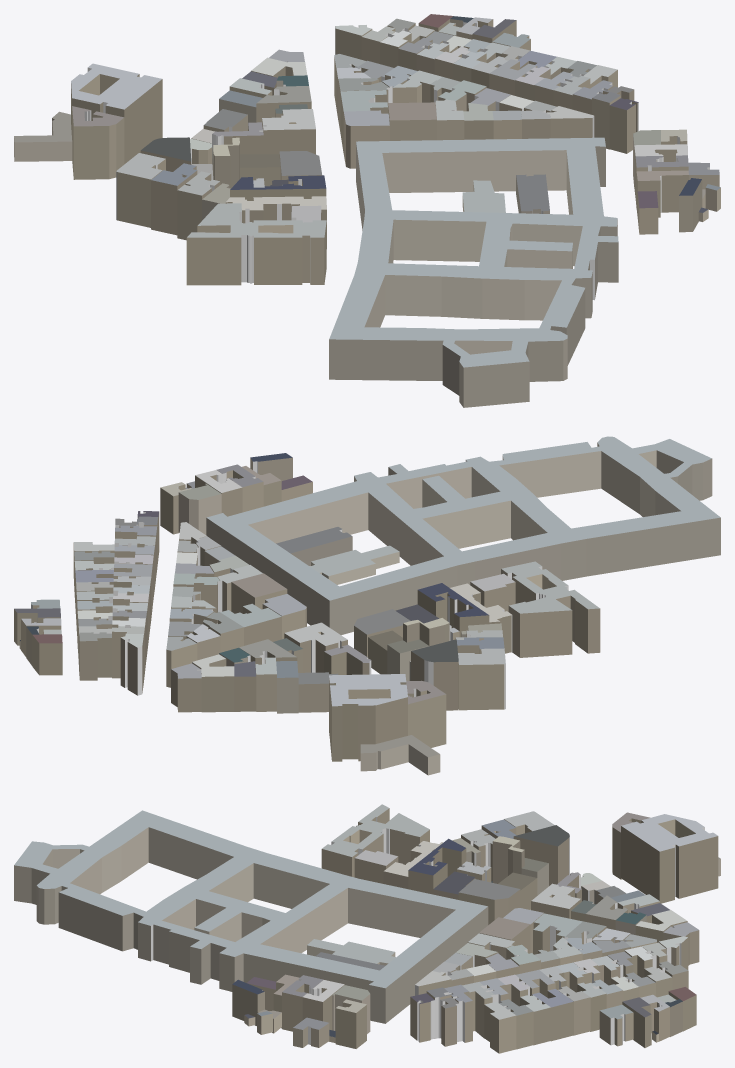
3 renders of one model, top to bottom at view 1: azimuth 30°, elevation 25°; view 2: azimuth 150°, elevation 25°; view 3: azimuth 270°, elevation 25°, orthographic. The views are drawn at different scales.
Visible parts, largest first — view 1: tuile; view 2: tuile; view 3: tuile.
Part boxes in pixels (left/top/right/bottom): tuile: left=14, top=14, right=720, bottom=407; tuile: left=14, top=436, right=720, bottom=775; tuile: left=14, top=804, right=720, bottom=1053.
Bounding box in the file's own units: 280 × 34.95 × 391.
